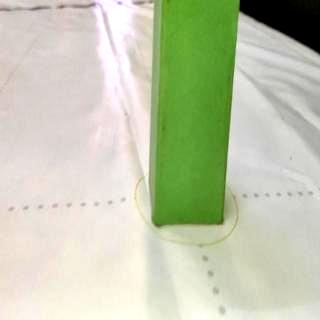greenbox: (148, 0, 240, 226)
